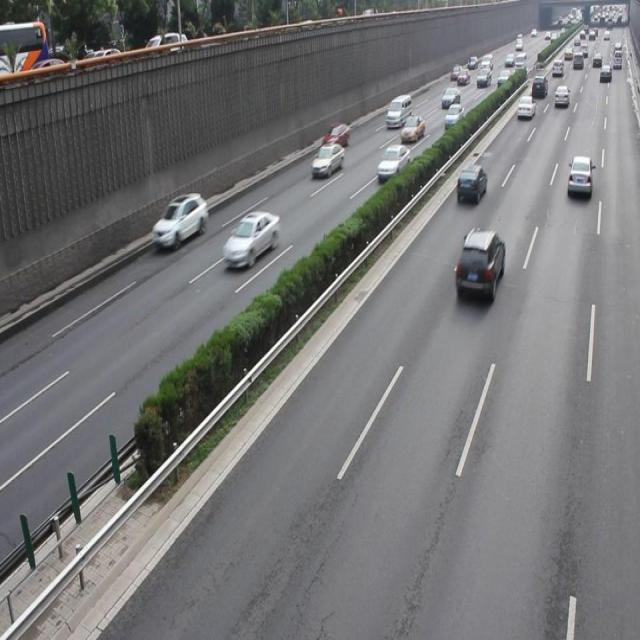car: (453, 229, 504, 302), (150, 191, 208, 251), (222, 210, 278, 269), (454, 163, 486, 204), (375, 143, 409, 179), (564, 155, 591, 197), (310, 143, 343, 177)
